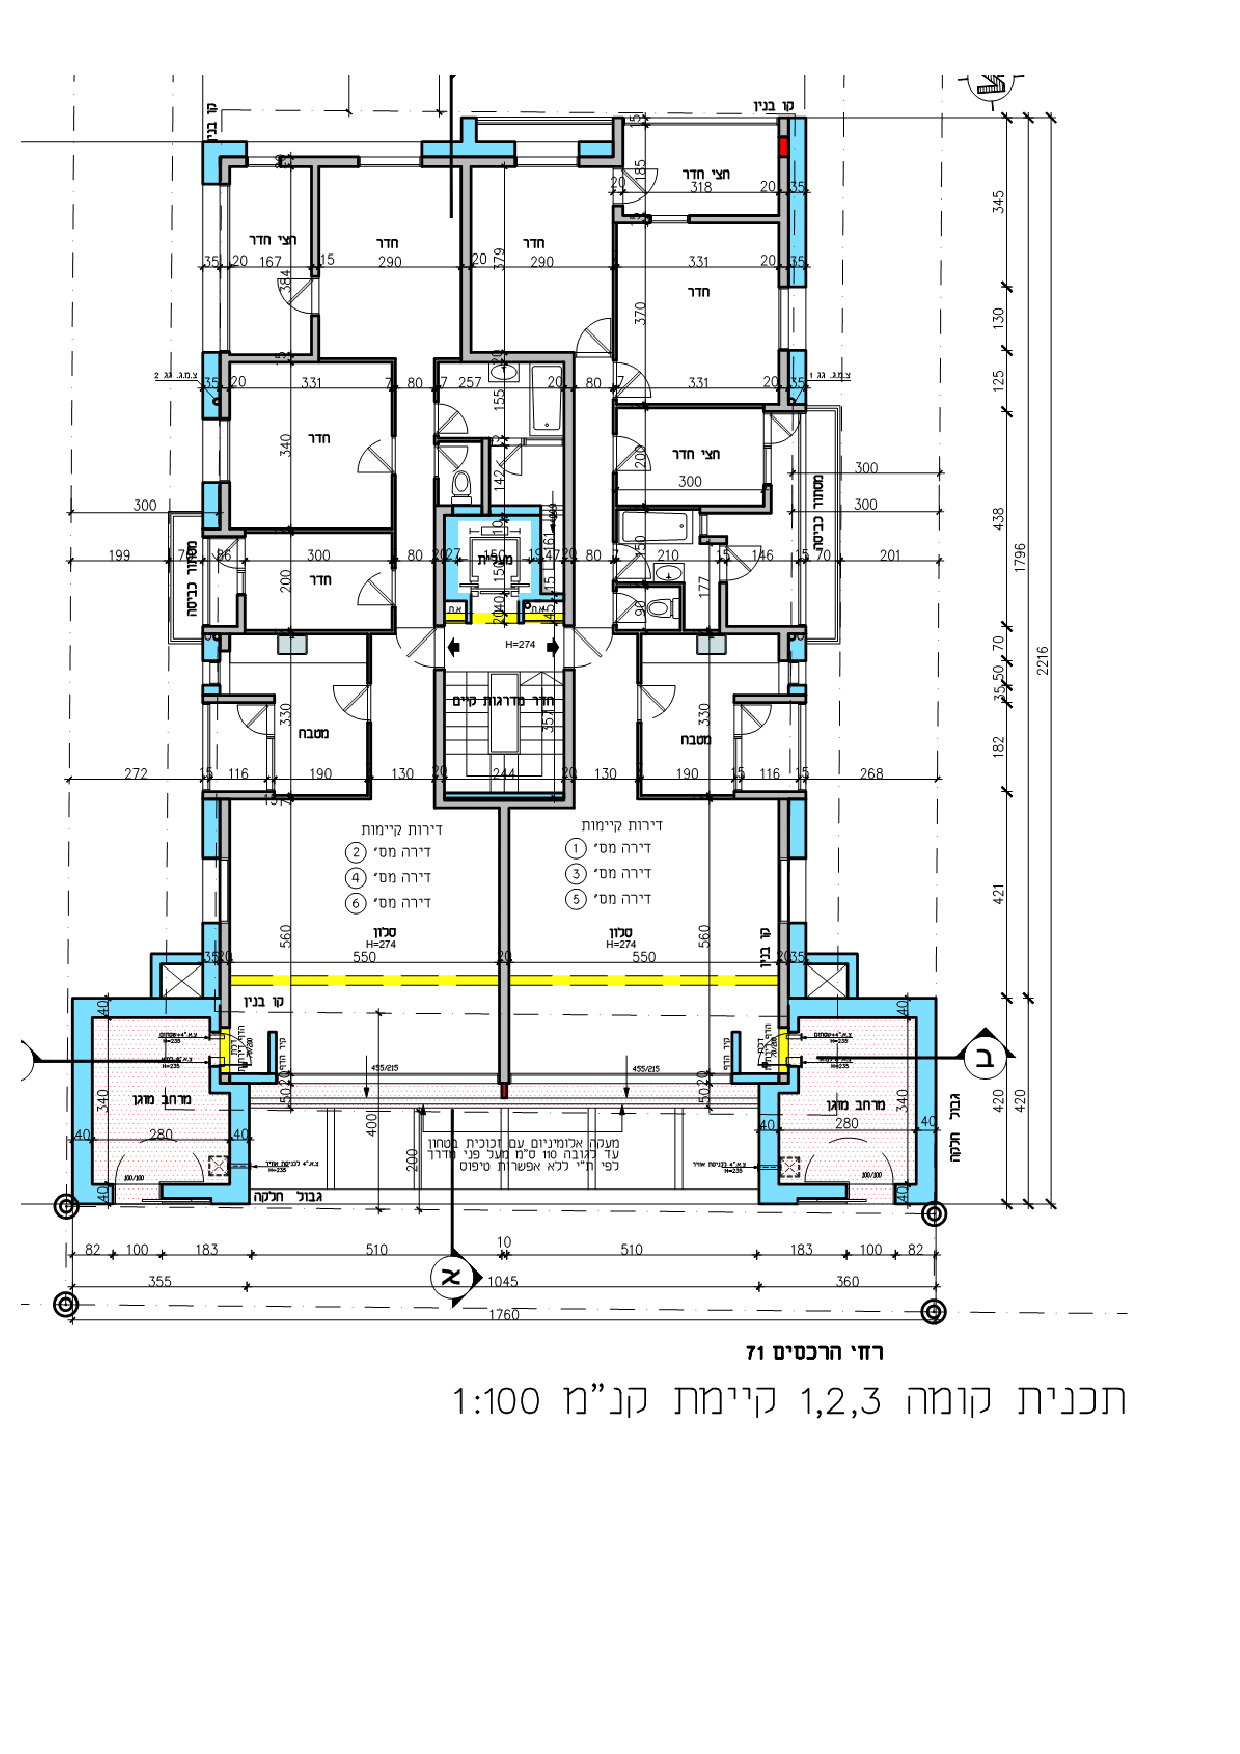wall: (499, 798, 510, 1079), (564, 352, 574, 620), (460, 157, 474, 366), (790, 119, 807, 289), (758, 1083, 780, 1202), (228, 1084, 246, 1200), (123, 998, 217, 1019), (433, 670, 444, 811), (564, 668, 574, 807), (790, 923, 807, 1004), (421, 140, 514, 153), (780, 158, 789, 287), (421, 154, 517, 166), (435, 798, 574, 807), (204, 925, 219, 1000), (789, 798, 807, 859), (462, 353, 573, 362), (203, 797, 219, 859), (778, 921, 788, 1024), (436, 506, 444, 624), (203, 140, 220, 185), (778, 796, 790, 860), (480, 435, 490, 515), (311, 157, 317, 272), (580, 156, 623, 168), (581, 142, 613, 154), (615, 118, 623, 165)
